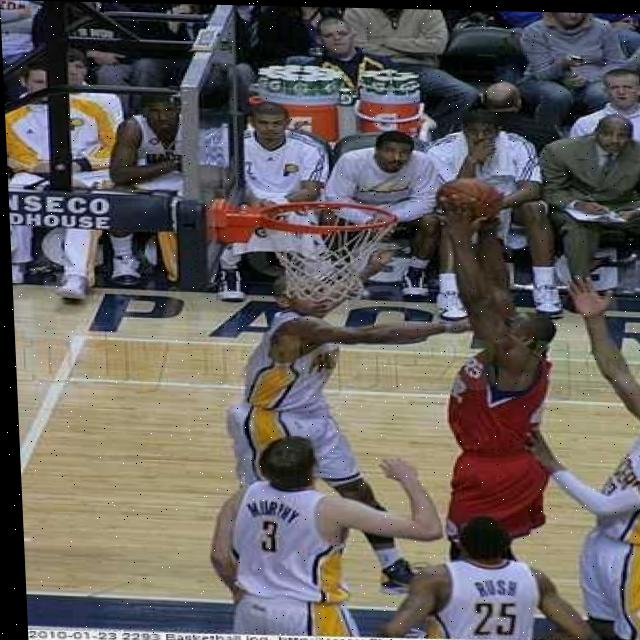basketball: (439, 177, 504, 222)
hoop: (255, 199, 403, 305)
